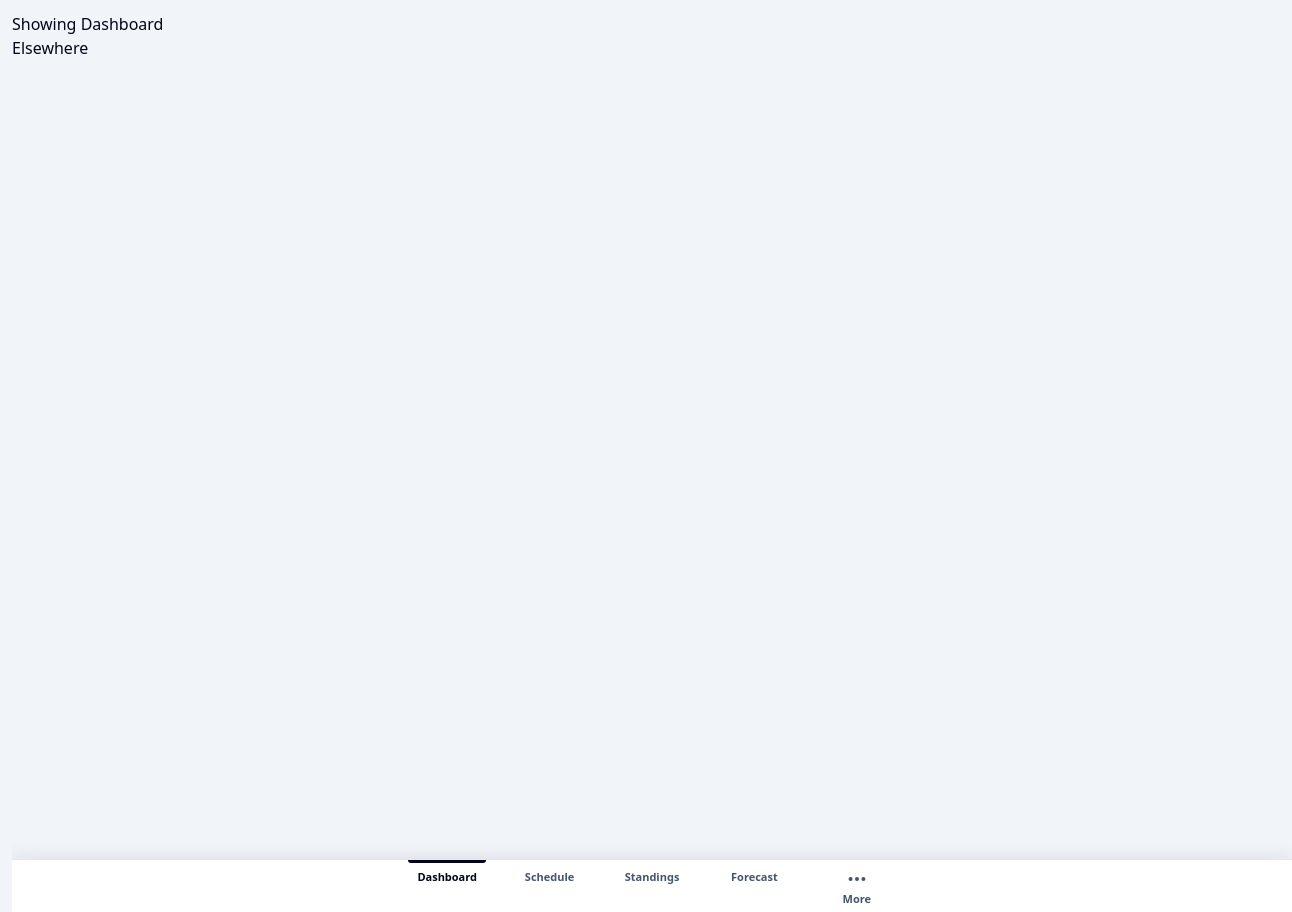
Test case: the tab row on a phone › closes More when a tab in the bar is tapped instead
Click the button "More": (857, 886) [806, 860, 908, 911]
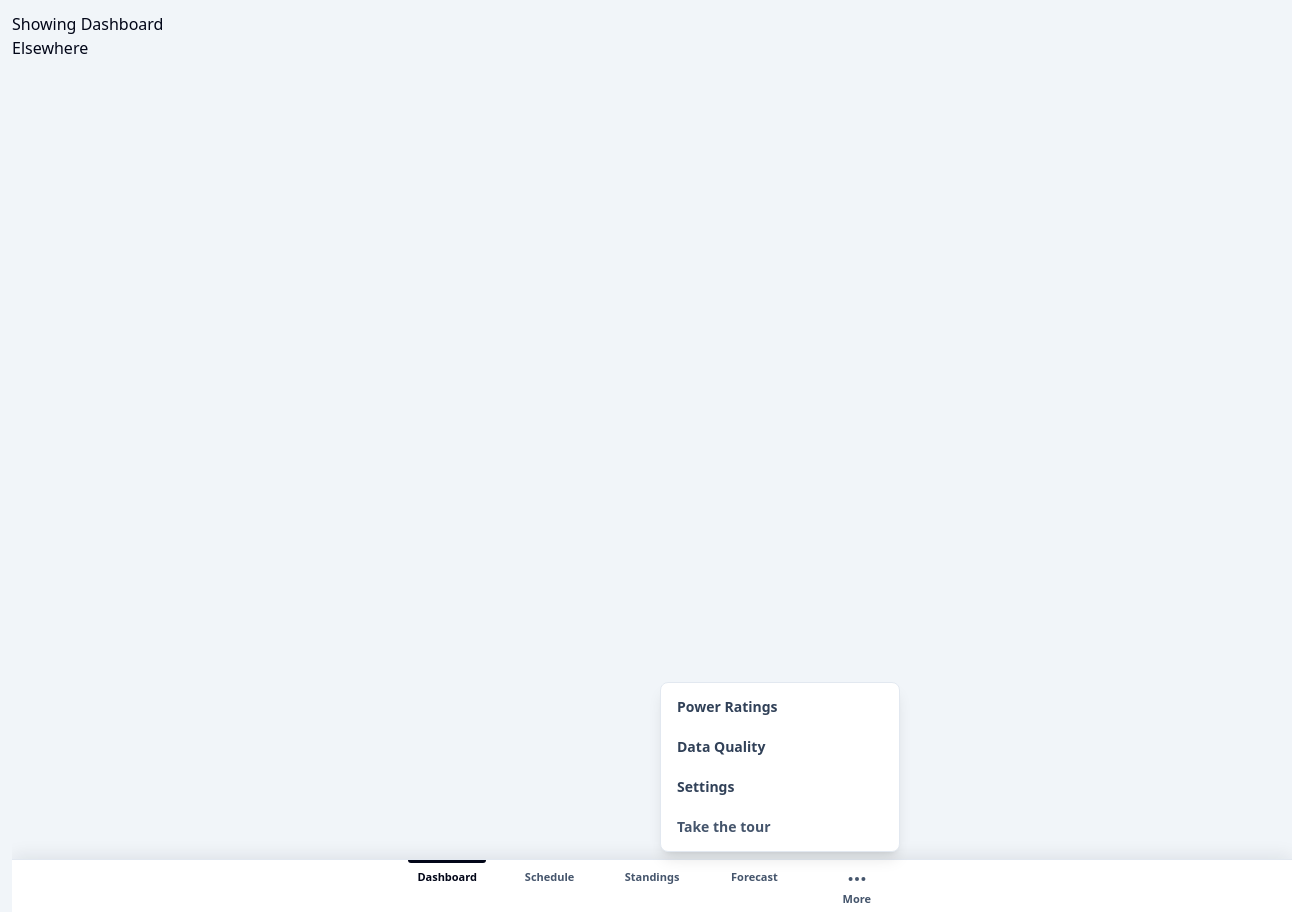
Click the tab "Schedule": (550, 886) [498, 860, 601, 911]
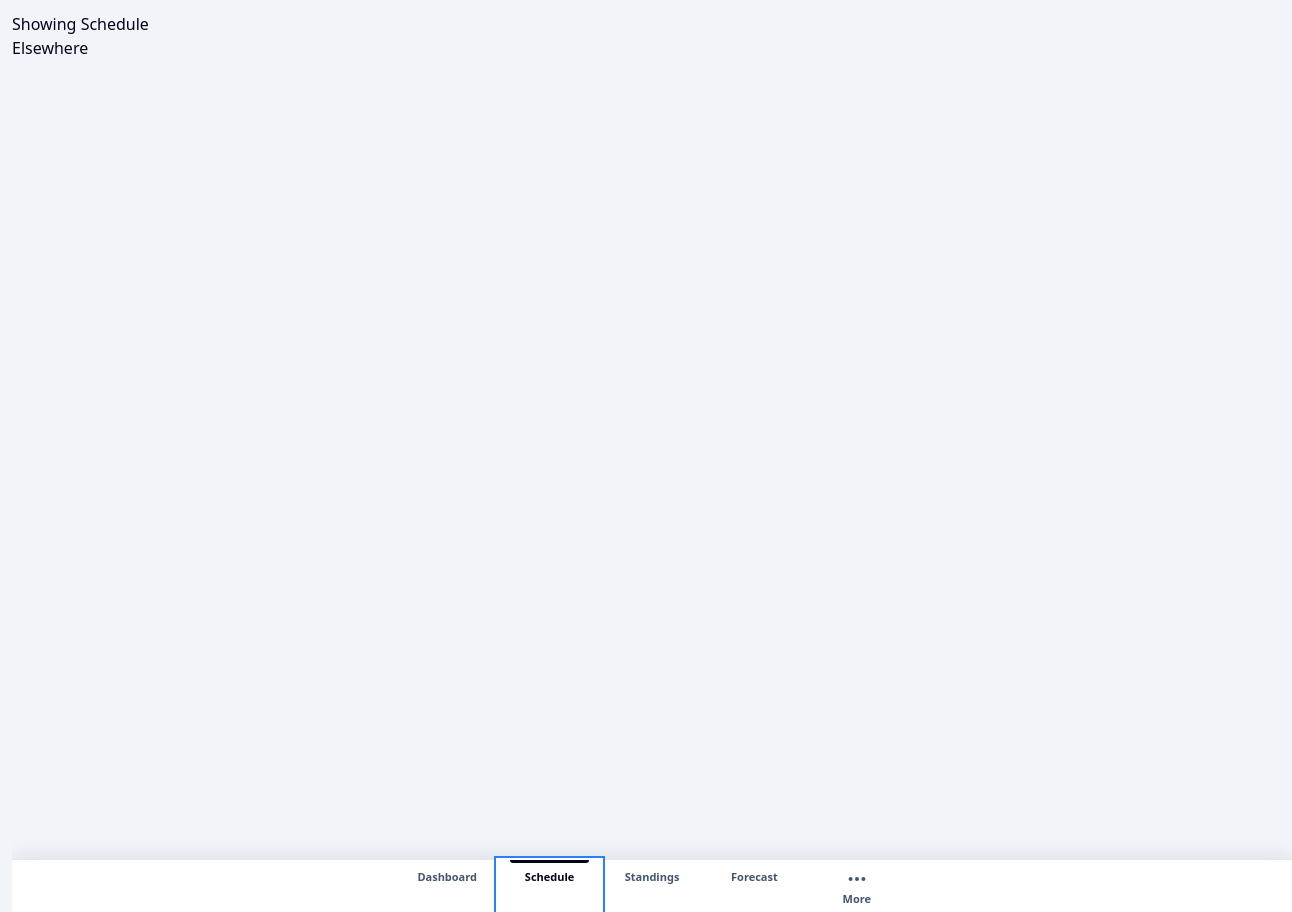
Result: the text "Showing Schedule" is shown at [12, 13, 149, 35]
